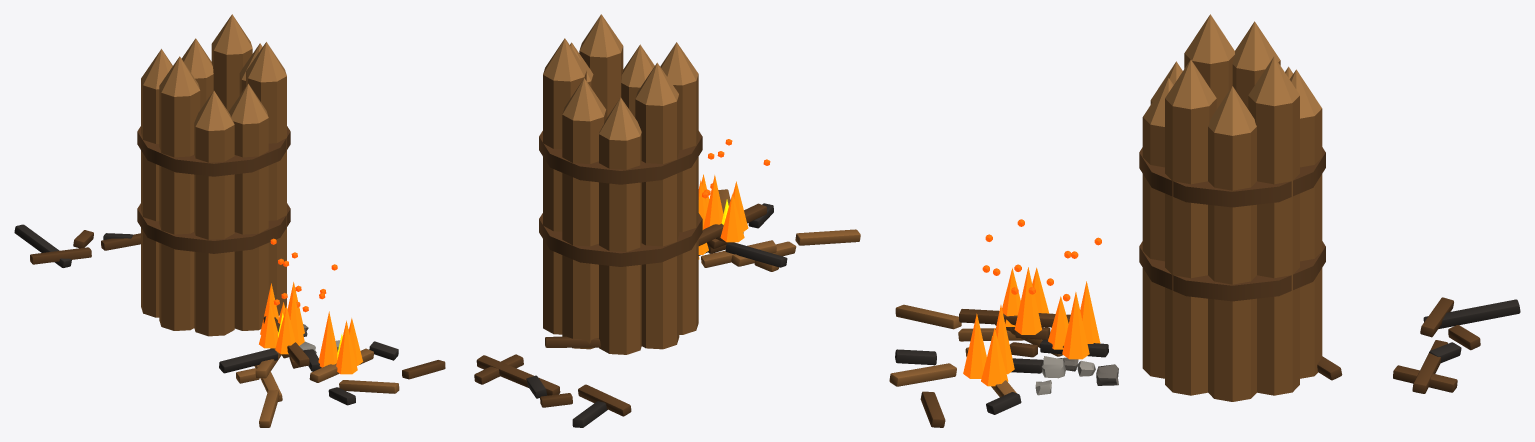
File: wieza_etap1.glb
3 views of the same model, side by side, from view 1: azimuth 30°, elevation 25°; view 2: azimuth 150°, elevation 25°; view 3: azimuth 270°, elevation 25° (orthographic). The views are drawn at different scales.
Visible parts, largest first — view 1: wieza_etap1; view 2: wieza_etap1; view 3: wieza_etap1.
Boxes of the visible parts, x1,y1,x2,y2 form: wieza_etap1: (14,14,445,427); wieza_etap1: (474,14,860,427); wieza_etap1: (889,14,1520,427).
Size of the model in its own units: 3.32 by 4.27 by 7.31.
